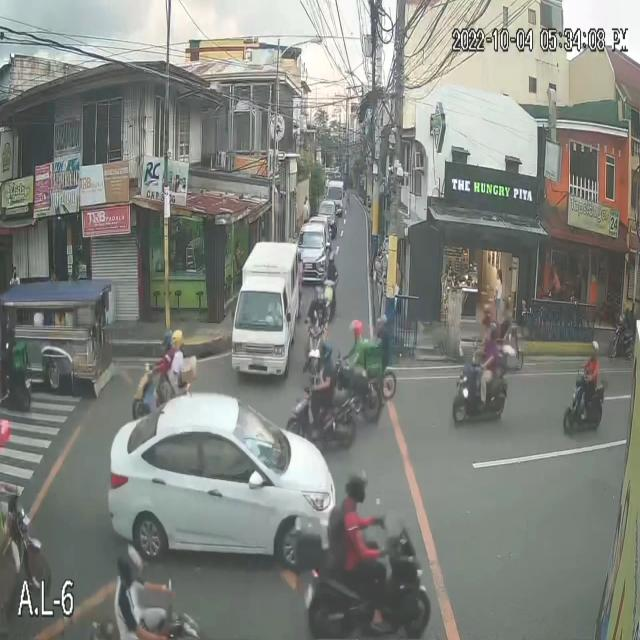Full-Faced: (114, 542, 146, 586), (343, 467, 369, 503), (346, 318, 364, 346), (317, 339, 336, 363), (586, 341, 603, 362), (161, 327, 172, 353), (486, 320, 498, 341), (172, 329, 183, 350), (481, 302, 492, 322)
